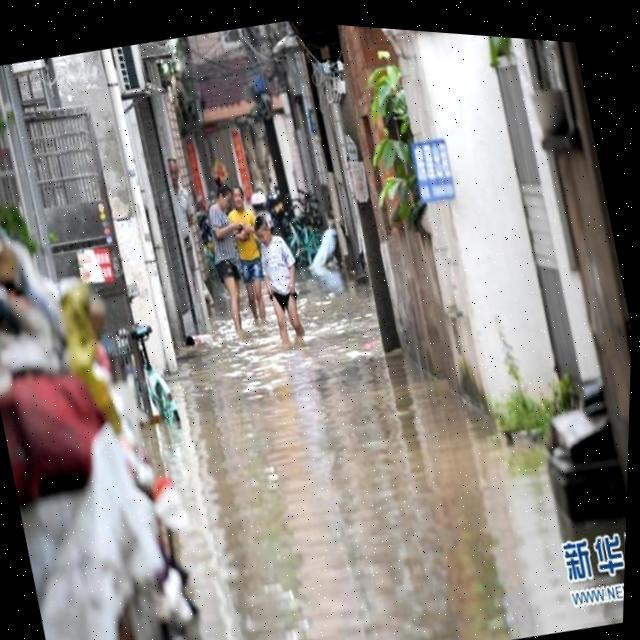civilian: (235, 194, 323, 356), (190, 168, 267, 344), (155, 146, 227, 329), (214, 172, 281, 323)
